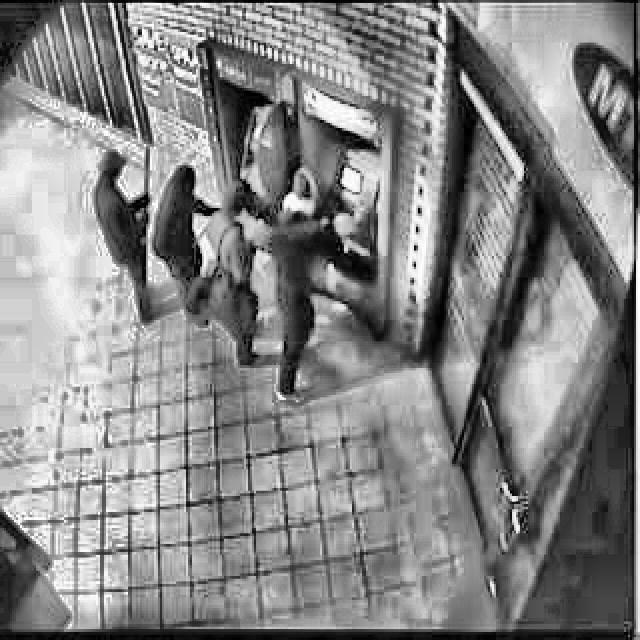burglary: (152, 86, 376, 412), (89, 143, 155, 333)
